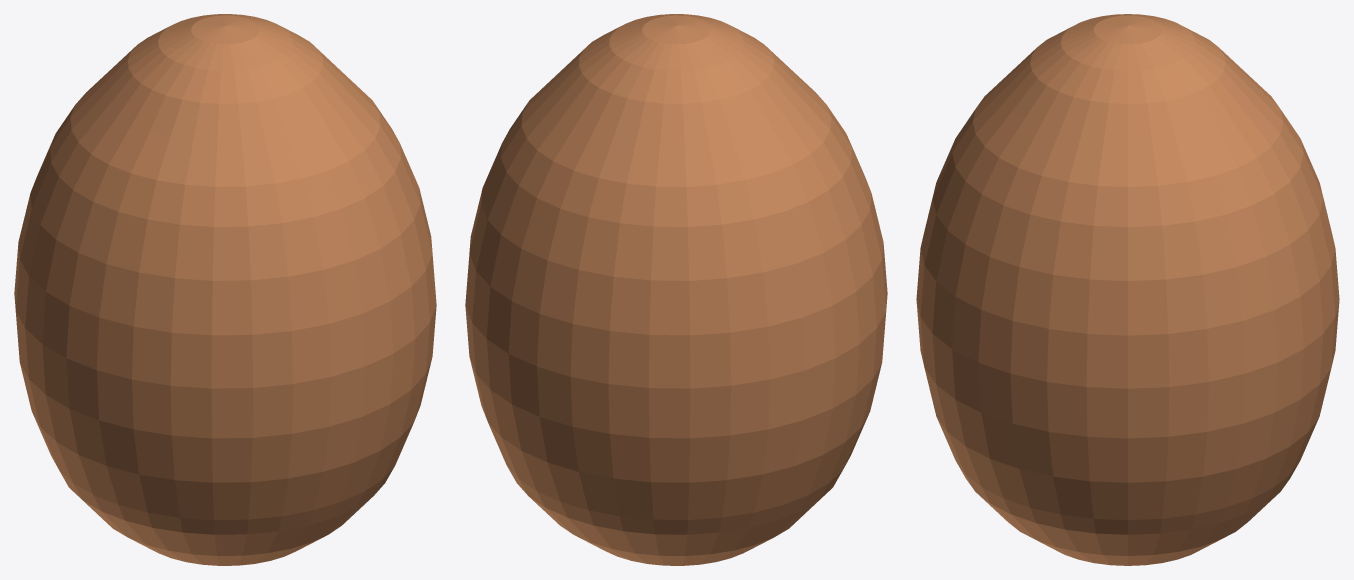
Rendered from ayam.fbx.
3 views of the same model, side by side, from view 1: azimuth 30°, elevation 25°; view 2: azimuth 150°, elevation 25°; view 3: azimuth 270°, elevation 25° (orthographic).
Parts seen in each view (by area): view 1: Sphere; view 2: Sphere; view 3: Sphere.
Part boxes in pixels (x1=…): Sphere: x1=14, y1=14, x2=436, y2=565; Sphere: x1=465, y1=14, x2=887, y2=565; Sphere: x1=916, y1=14, x2=1339, y2=565.
Size of the model in its own units: 200 by 274 by 200.
